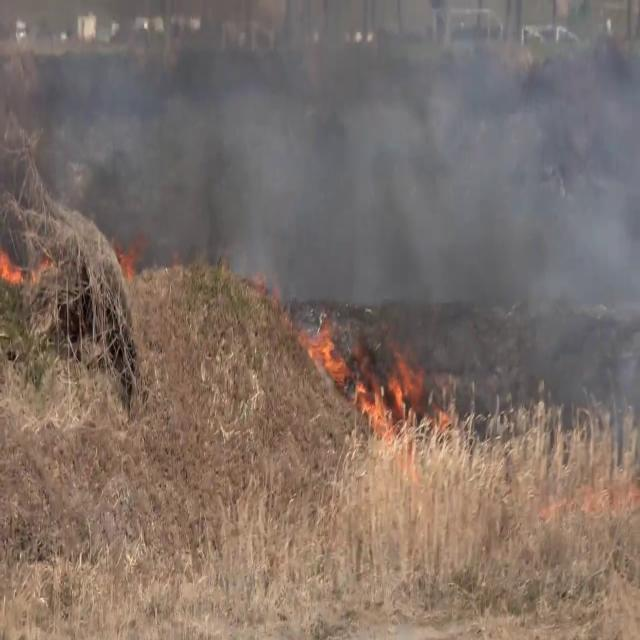Fire: (354, 350, 422, 424), (297, 304, 350, 378), (0, 238, 27, 292)
Smoke: (3, 0, 640, 362)
